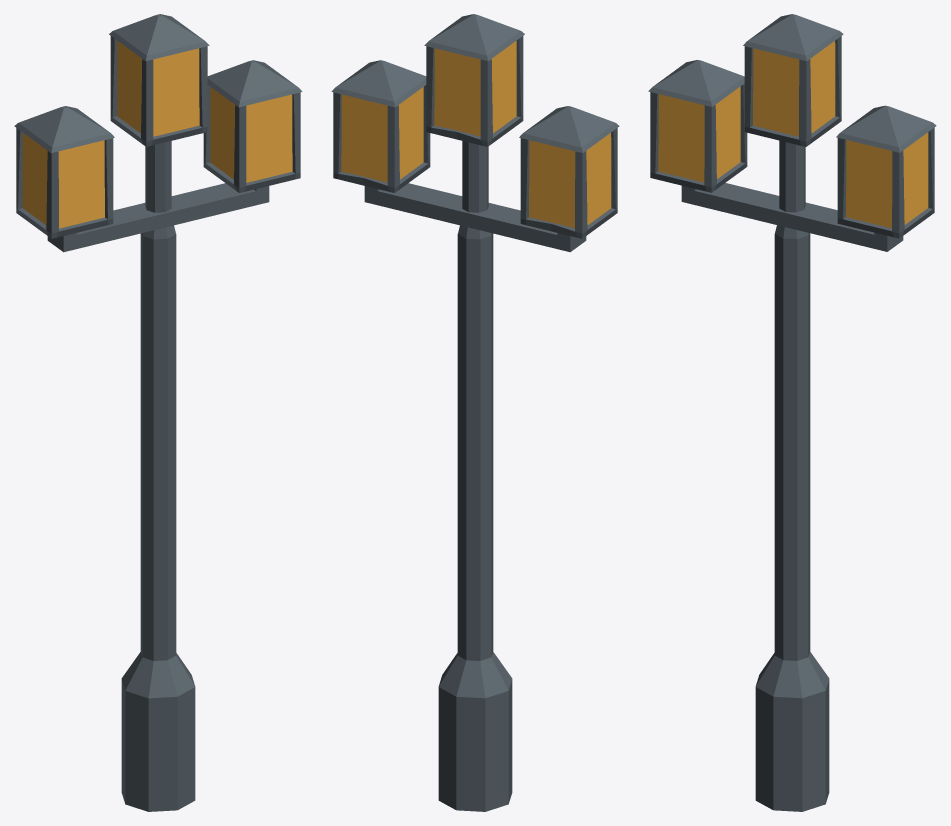
File: Streetlight_1.fbx
3 renders of one model, left to right at view 1: azimuth 30°, elevation 25°; view 2: azimuth 150°, elevation 25°; view 3: azimuth 330°, elevation 25°, orthographic.
Parts seen in each view (by area): view 1: Streetlight_1; view 2: Streetlight_1; view 3: Streetlight_1.
Boxes of the visible parts, box(x1,y1,x2,y2) form: Streetlight_1: box(14, 14, 302, 811); Streetlight_1: box(331, 14, 619, 811); Streetlight_1: box(648, 14, 936, 811).
Bounding box in the file's own units: 67.86 × 200 × 17.82.
